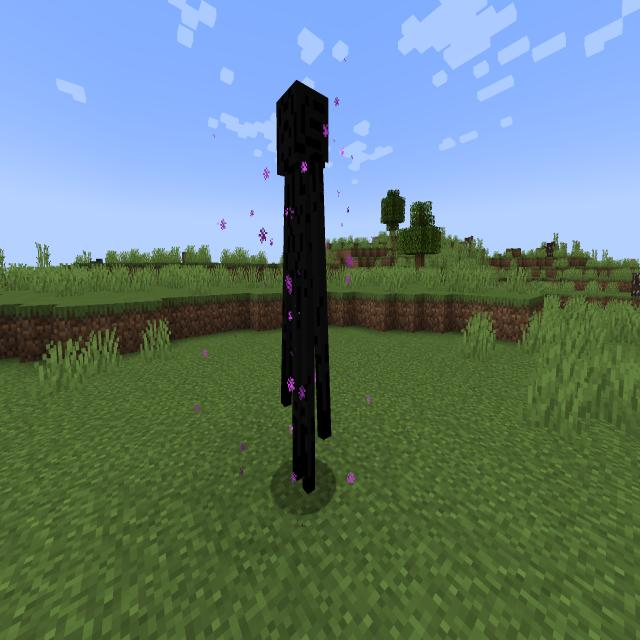Enderman: (260, 77, 350, 513)
